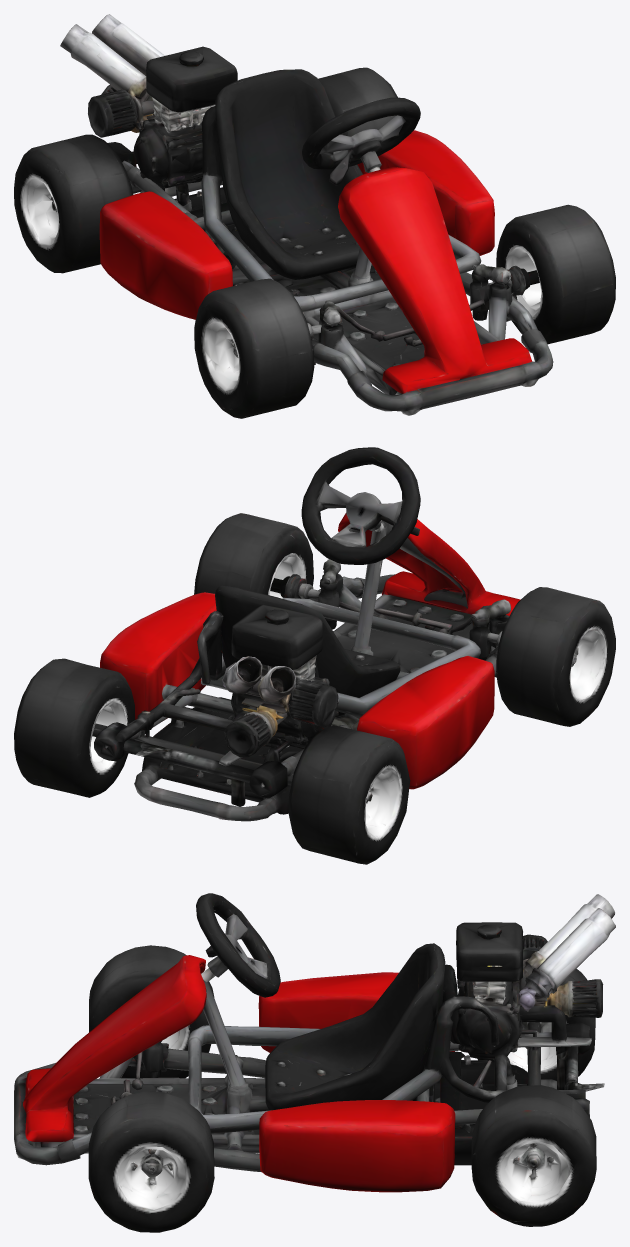
Rendered from k_red_t.glb.
3 renders of one model, top to bottom at view 1: azimuth 30°, elevation 25°; view 2: azimuth 150°, elevation 25°; view 3: azimuth 270°, elevation 25°, orthographic.
Visible parts, largest first — view 1: world; view 2: world; view 3: world.
Boxes of the visible parts, x1,y1,x2,y2 form: world: [14, 14, 615, 418]; world: [14, 447, 615, 864]; world: [14, 893, 615, 1232].
Size of the model in its own units: 0.6943 by 0.4482 by 0.988.
1 material, 1 textured.
